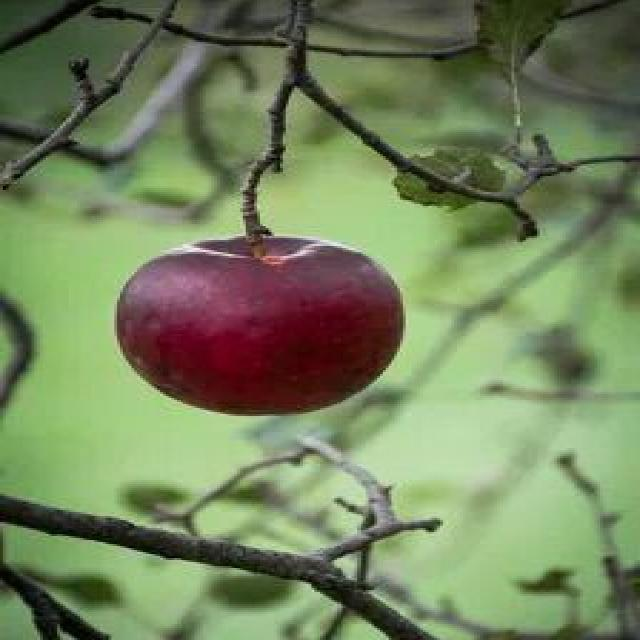Rotten: (123, 247, 407, 408)
